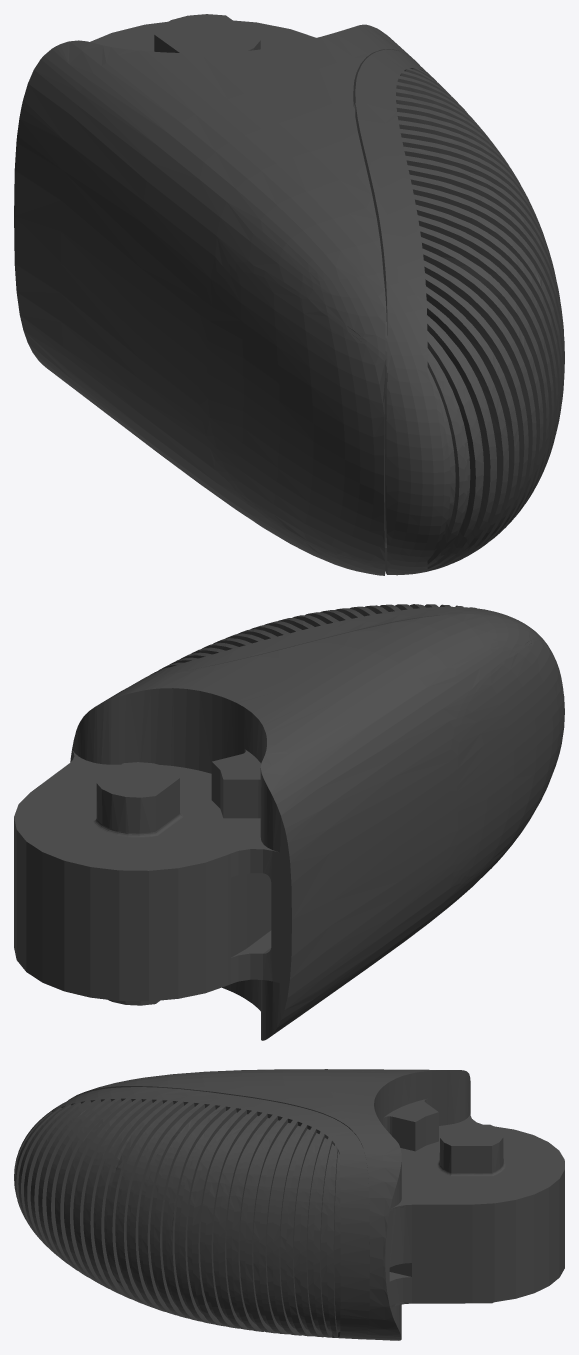
Rendered from rh_thumb_distal_vis.obj.
The picture shows the model from 3 angles, top to bottom: view 1: azimuth 30°, elevation 25°; view 2: azimuth 150°, elevation 25°; view 3: azimuth 270°, elevation 25°; orthographic projection. The views are drawn at different scales.
Parts seen in each view (by area): view 1: rh_thumb_distal; view 2: rh_thumb_distal; view 3: rh_thumb_distal.
Boxes of the visible parts, x1,y1,x2,y2 form: rh_thumb_distal: [14, 14, 564, 575]; rh_thumb_distal: [14, 604, 564, 1040]; rh_thumb_distal: [14, 1069, 564, 1340].
Size of the model in its own units: 0.0195 by 0.0188 by 0.0427.
Materials: 1 (1 with a texture image).
